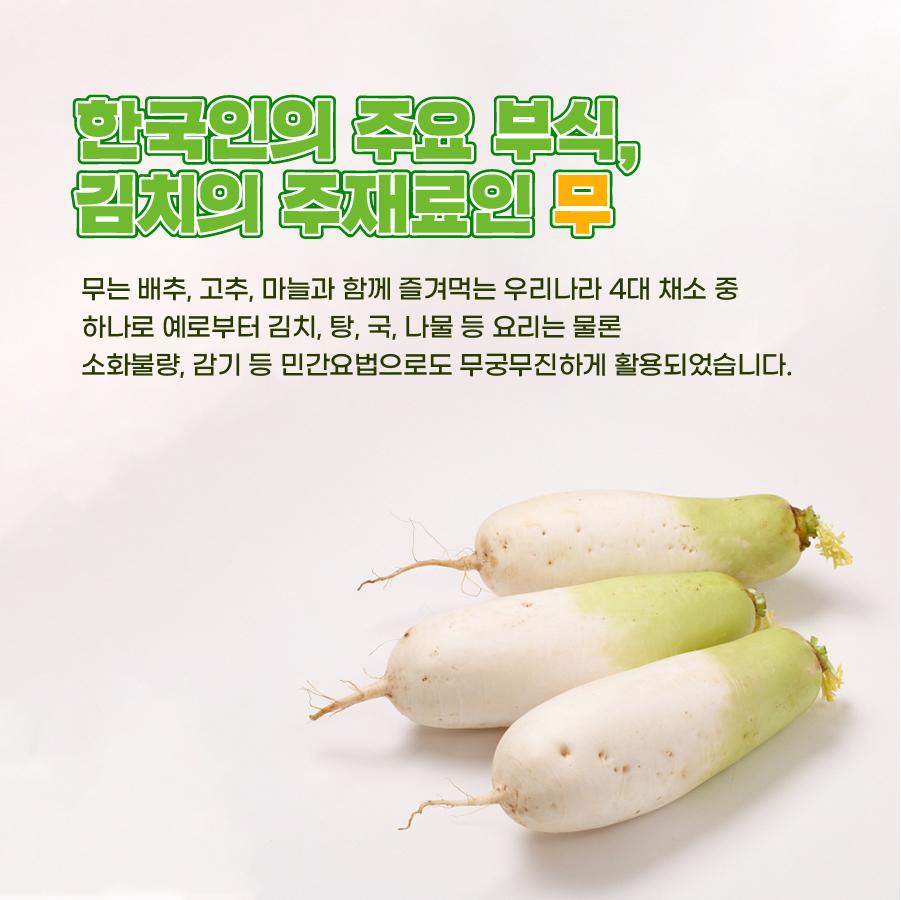radish: (511, 788, 901, 900), (635, 679, 901, 833), (646, 745, 901, 900)
